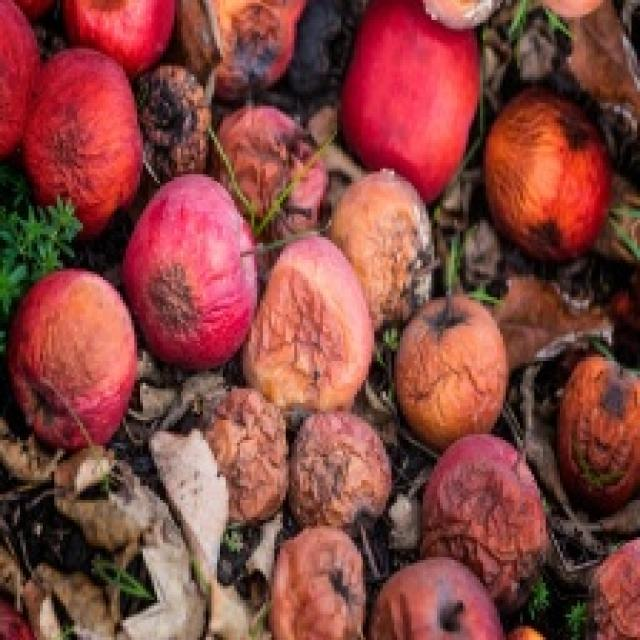rotten_apple: (130, 179, 258, 366), (19, 272, 132, 446), (489, 98, 609, 258), (256, 237, 371, 403), (432, 440, 546, 589), (36, 52, 136, 214), (218, 105, 324, 229), (399, 306, 501, 429), (192, 391, 288, 518), (288, 412, 390, 529), (566, 353, 640, 510), (177, 0, 292, 89), (275, 525, 366, 636), (350, 174, 430, 299), (376, 560, 499, 640)
